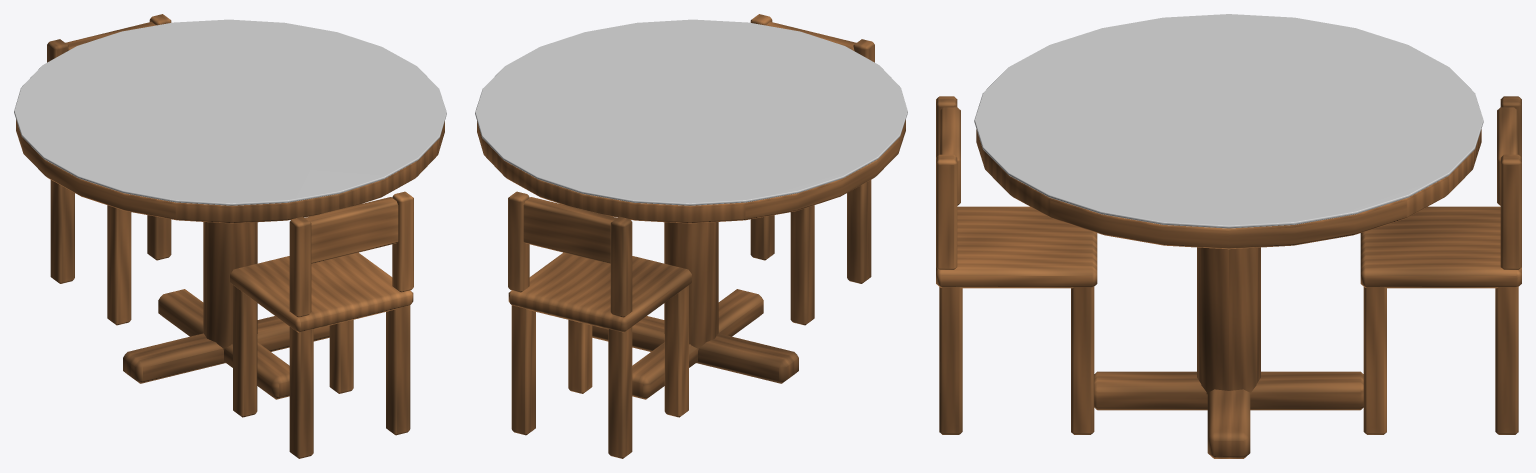
File: Furn_Life_SmallDiningTable.fbx
The picture shows the model from 3 angles, left to right: view 1: azimuth 30°, elevation 25°; view 2: azimuth 150°, elevation 25°; view 3: azimuth 270°, elevation 25°; orthographic projection. The views are drawn at different scales.
Visible parts, largest first — view 1: Furn_Life_SmallDiningTable; view 2: Furn_Life_SmallDiningTable; view 3: Furn_Life_SmallDiningTable.
Boxes of the visible parts, x1=… form: Furn_Life_SmallDiningTable: x1=14, y1=14, x2=446, y2=458; Furn_Life_SmallDiningTable: x1=475, y1=14, x2=907, y2=458; Furn_Life_SmallDiningTable: x1=936, y1=14, x2=1521, y2=458.
Size of the model in its own units: 1.2 by 0.75 by 1.4.
2 materials, 1 textured.
